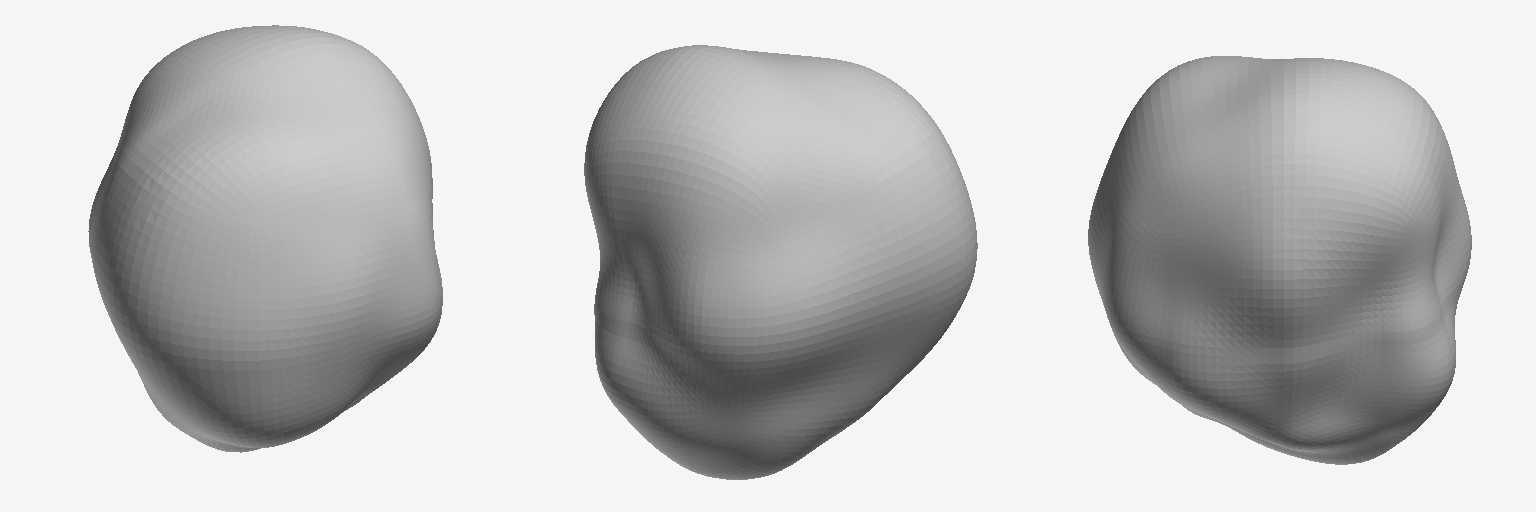
File: Stein2.obj
The picture shows the model from 3 angles: view 1: azimuth 30°, elevation 25°; view 2: azimuth 150°, elevation 25°; view 3: azimuth 270°, elevation 25°; orthographic projection.
Visible parts, largest first — view 1: Cube_Cube.002; view 2: Cube_Cube.002; view 3: Cube_Cube.002.
Part boxes in pixels (bbox=[...]): Cube_Cube.002: bbox=[88, 25, 442, 452]; Cube_Cube.002: bbox=[584, 45, 977, 479]; Cube_Cube.002: bbox=[1088, 56, 1471, 464].
Size of the model in its own units: 1.45 by 1.65 by 1.44.